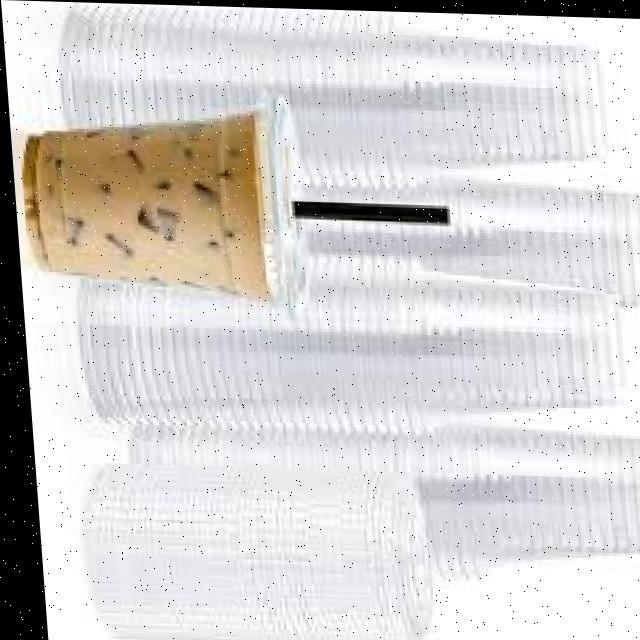cup: (22, 102, 298, 298)
